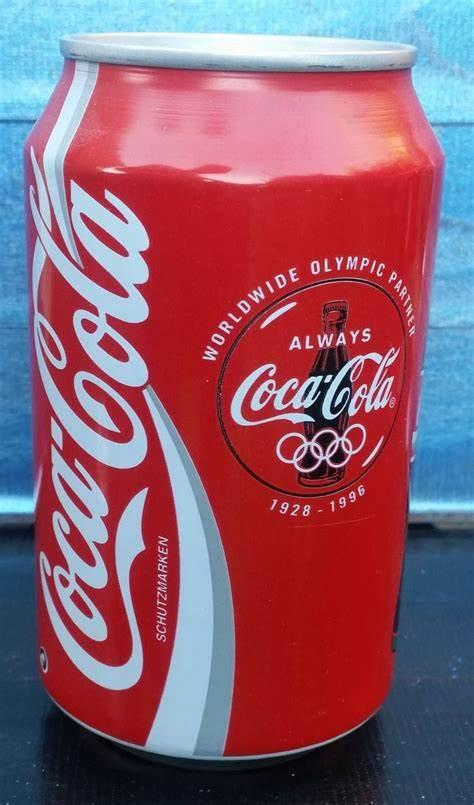metal: (24, 34, 444, 764)
